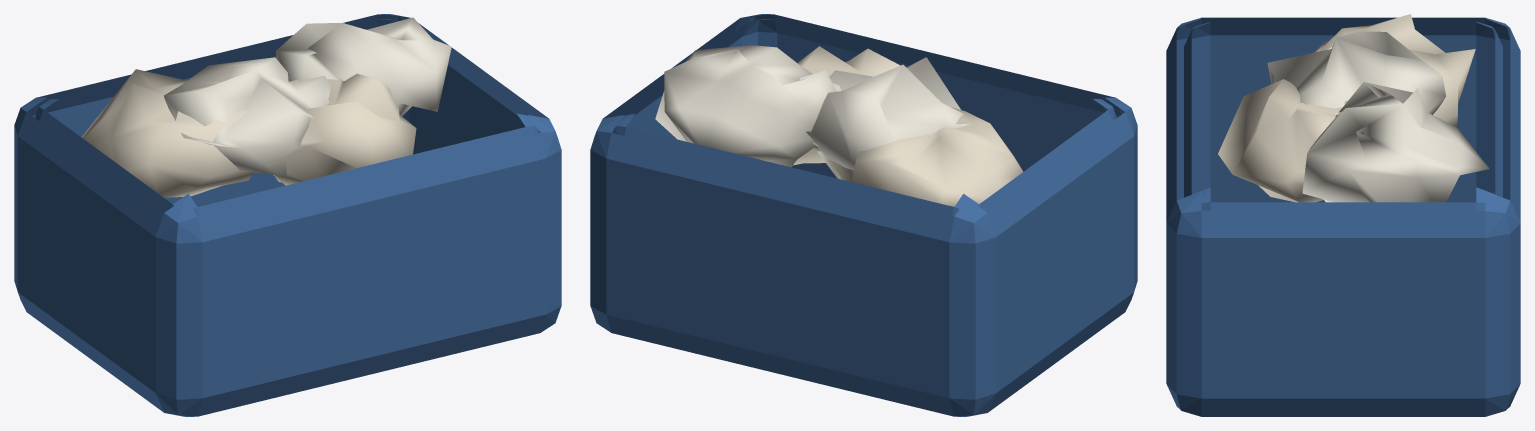
Rendered from laundry_basket.glb.
3 renders of one model, left to right at view 1: azimuth 30°, elevation 25°; view 2: azimuth 150°, elevation 25°; view 3: azimuth 270°, elevation 25°, orthographic. The views are drawn at different scales.
Parts seen in each view (by area): view 1: laundry_basket; view 2: laundry_basket; view 3: laundry_basket.
Part boxes in pixels (x1,y1,x2,y2): laundry_basket: (14, 14, 561, 416); laundry_basket: (590, 14, 1137, 416); laundry_basket: (1166, 14, 1520, 416).
Bounding box in the file's own units: 0.54 × 0.3413 × 0.4.
